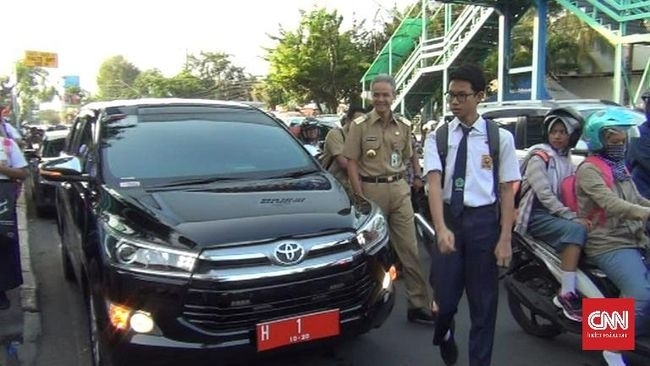plate: (257, 312, 338, 348)
